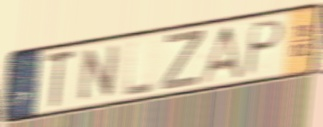A: (195, 23, 245, 87)
L: (123, 37, 156, 99)
N: (76, 42, 123, 105)
P: (242, 17, 287, 79)
T: (43, 48, 78, 111)
Z: (159, 28, 205, 93)
